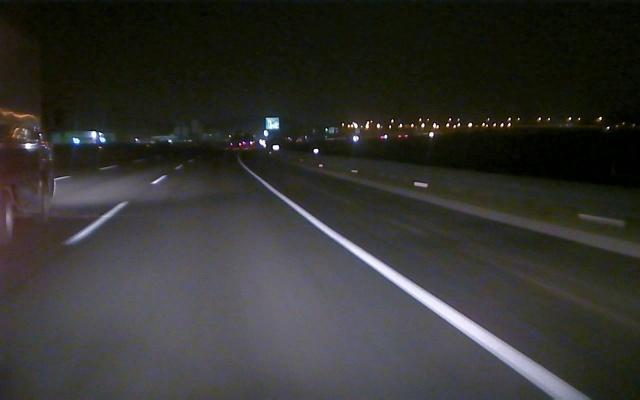lane: (249, 172, 588, 396), (63, 176, 163, 246)
